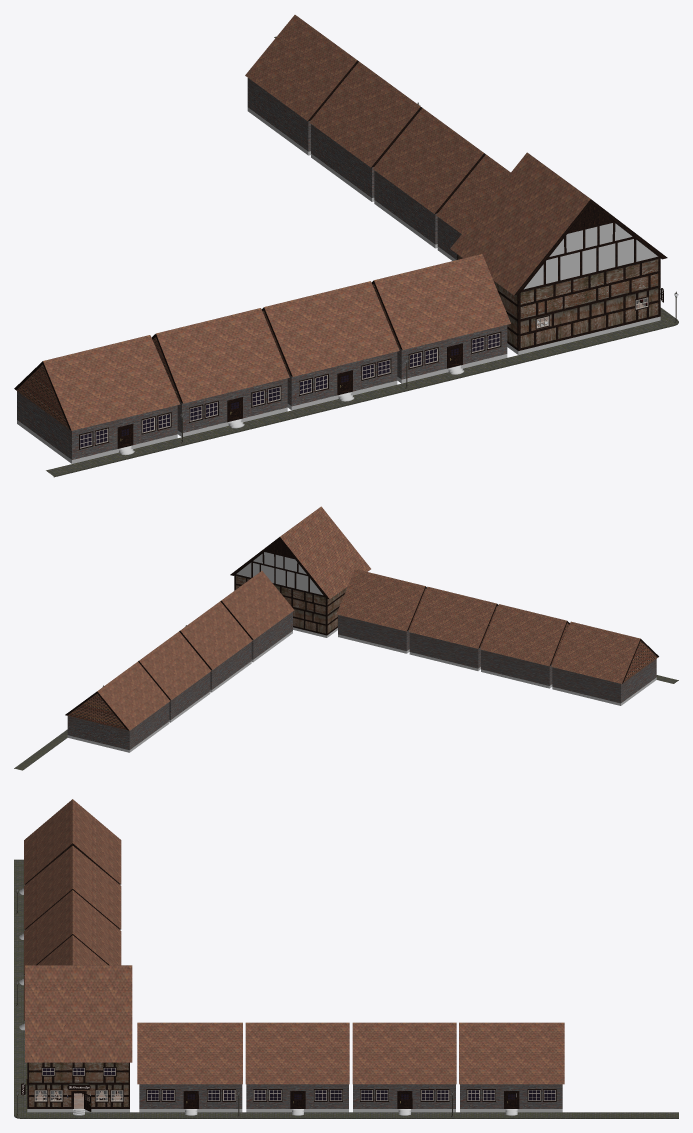
File: ForemothersCafe.fbx
3 views of the same model, one above another, from view 1: azimuth 30°, elevation 25°; view 2: azimuth 150°, elevation 25°; view 3: azimuth 270°, elevation 25° (orthographic). The views are drawn at different scales.
Parts seen in each view (by area): view 1: Window Frames.005, Window Frames.004, Roof Shingles, Sidewalk, Left, Roof Pitches, Exterior Bricks.001, Exterior Bricks, Cobblestone Base; view 2: Window Frames.005, Window Frames.004, Roof Shingles, Roof Pitches, Right, Exterior Bricks.001, Exterior Bricks, Sidewalk; view 3: Window Frames.004, Window Frames.005, Roof Shingles, Sidewalk, Exterior Bricks.001, Front, Exterior Bricks, Window Pane Frames, Window Frames.
Part boxes in pixels (<box>): Window Frames.005: <box>14,254,510,463</box>; Window Frames.004: <box>245,15,510,260</box>; Roof Shingles: <box>450,152,667,295</box>; Sidewalk: <box>46,36,678,477</box>; Left: <box>518,205,660,350</box>; Roof Pitches: <box>524,204,657,289</box>; Exterior Bricks.001: <box>458,255,658,318</box>; Exterior Bricks: <box>507,288,658,347</box>; Cobblestone Base: <box>507,316,660,354</box>; Window Frames.005: <box>336,569,658,705</box>; Window Frames.004: <box>65,571,294,752</box>; Roof Shingles: <box>230,506,370,599</box>; Roof Pitches: <box>236,540,322,595</box>; Right: <box>234,540,326,635</box>; Exterior Bricks.001: <box>236,575,347,614</box>; Exterior Bricks: <box>293,608,338,633</box>; Sidewalk: <box>14,675,678,770</box>; Window Frames.004: <box>137,1022,564,1115</box>; Window Frames.005: <box>19,799,121,1030</box>; Roof Shingles: <box>25,965,132,1062</box>; Sidewalk: <box>14,859,678,1118</box>; Exterior Bricks.001: <box>29,1062,128,1082</box>; Front: <box>27,1062,129,1108</box>; Exterior Bricks: <box>29,1084,128,1106</box>; Window Pane Frames: <box>34,1068,123,1101</box>; Window Frames: <box>26,1067,123,1108</box>.
Size of what is drawn, in the model's own units: 8206 by 1759 by 8930.
